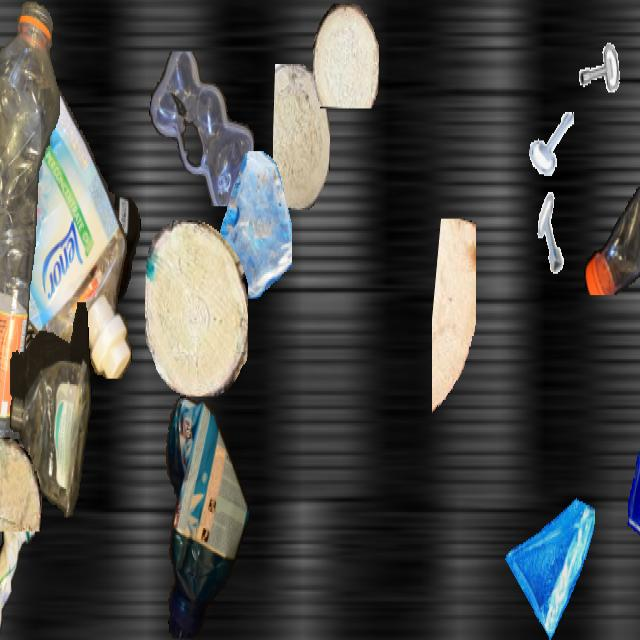glass: (504, 478, 594, 638), (209, 151, 291, 297), (622, 436, 640, 546)
metal: (567, 4, 623, 103), (530, 192, 576, 274), (529, 105, 573, 183)
plastic: (0, 71, 134, 377), (0, 197, 141, 439), (0, 2, 59, 471), (160, 393, 248, 638), (10, 302, 92, 519), (149, 52, 255, 205), (582, 160, 640, 295), (0, 489, 34, 638)
wood: (145, 220, 247, 394), (432, 219, 476, 425), (273, 64, 329, 210), (313, 3, 379, 106), (0, 437, 42, 530)
